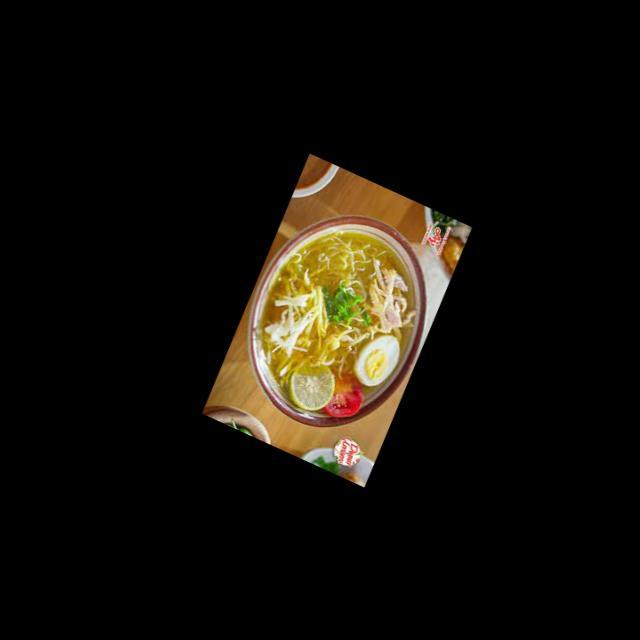Soto: (250, 220, 422, 424)
